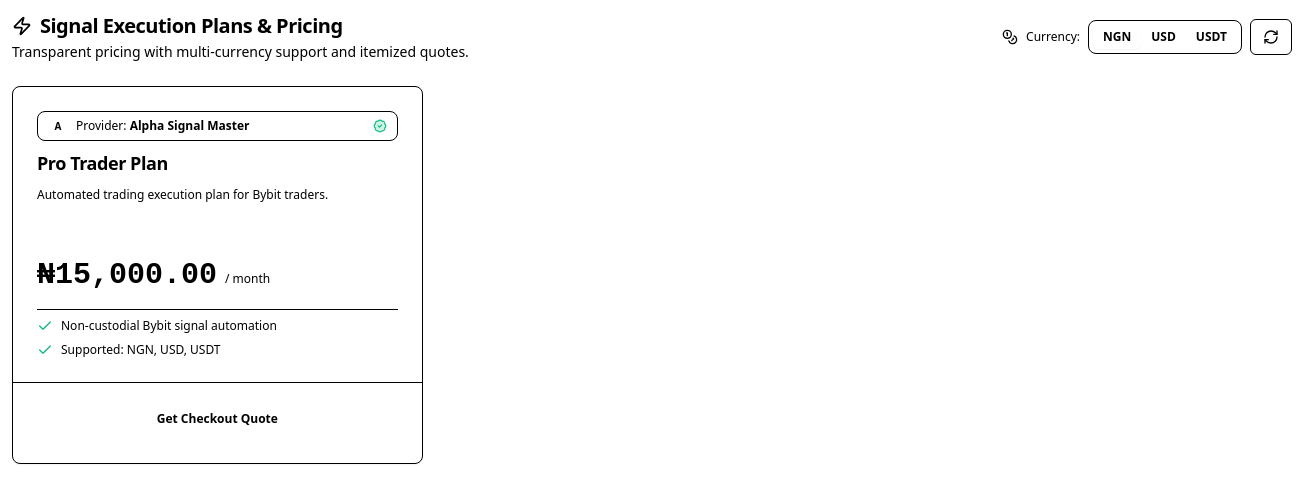
Test: PricingGrid › renders active plans with prominent provider identity header and handles currency switching correctly
The width and height of the screenshot is (1304, 481).
expect the text "Pro Trader Plan" is shown: met, box [37,151,168,175]
expect the text "Alpha Signal Master" is shown: met, box [130,118,250,134]
// Click USD currency switcher button
Click the button "USD".
click(1164, 37)  # box [1141,25,1186,49]
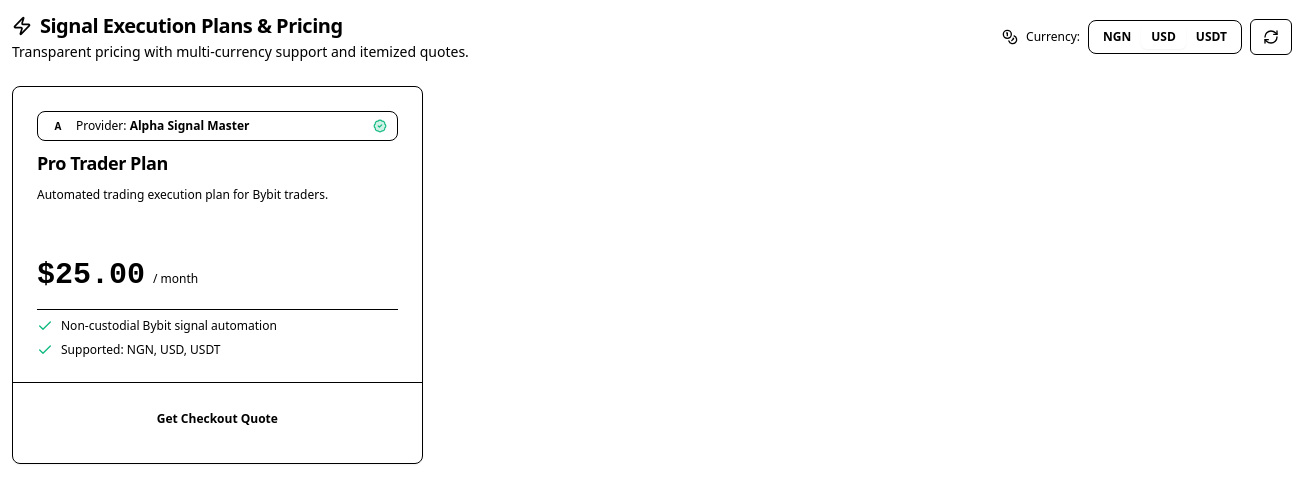
expect the text "$25.00" is shown: met, box [37,257,145,293]
// Click USDT currency switcher button
Click the button "USDT".
click(1211, 37)  # box [1186,25,1237,49]
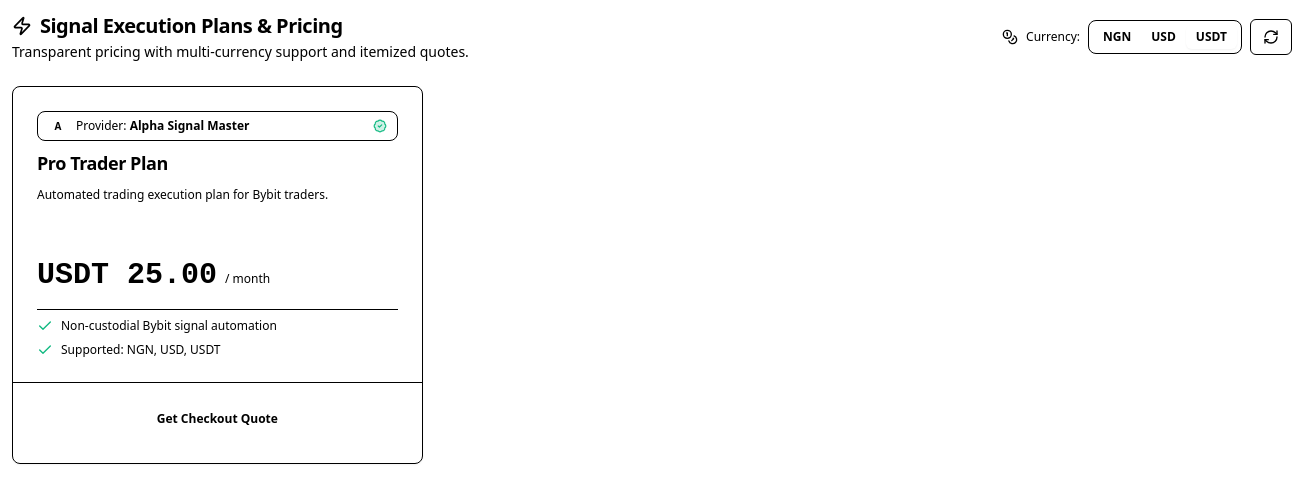
expect the text "USDT 25.00" is shown: met, box [37,257,217,293]
